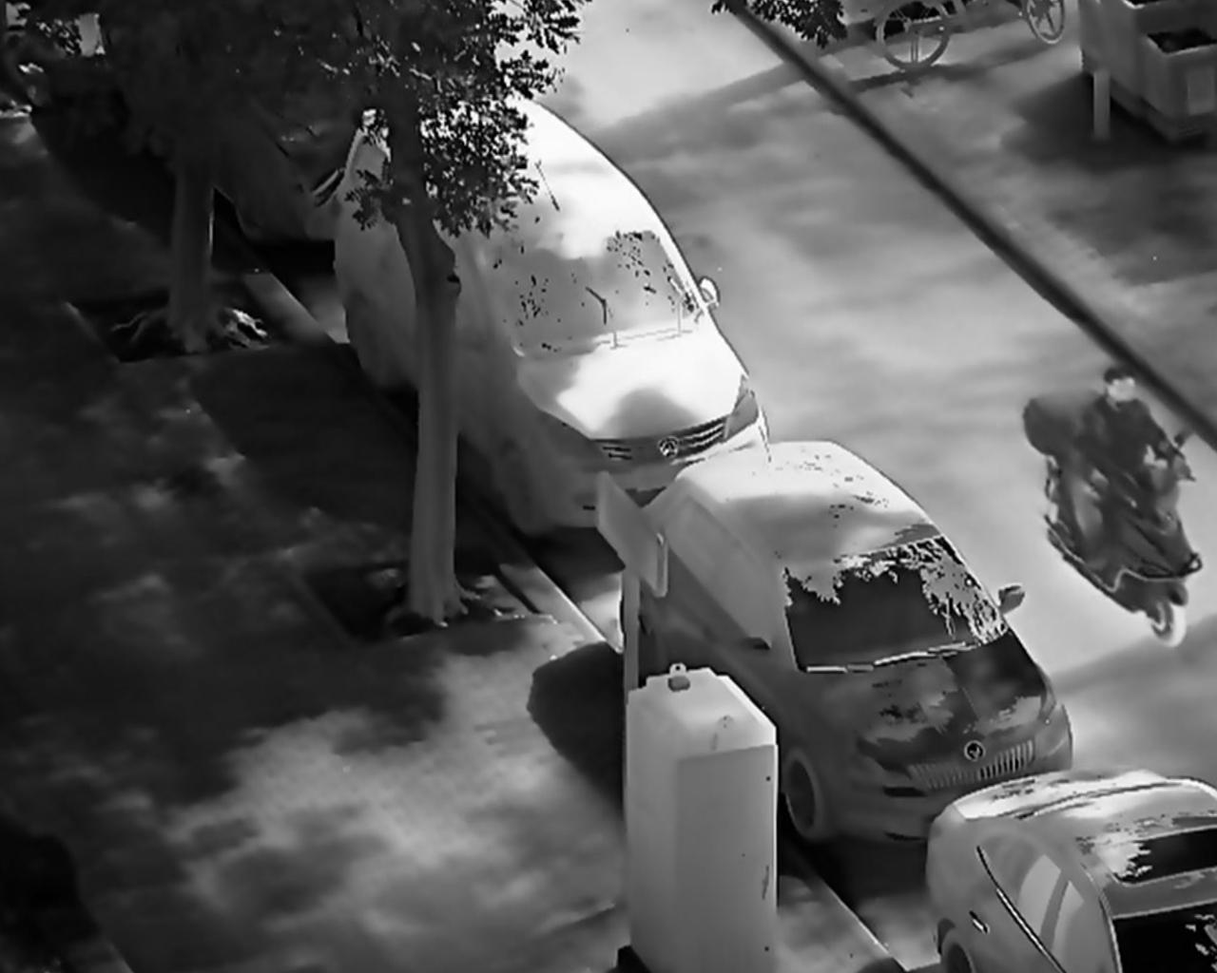person: (1064, 360, 1184, 557)
